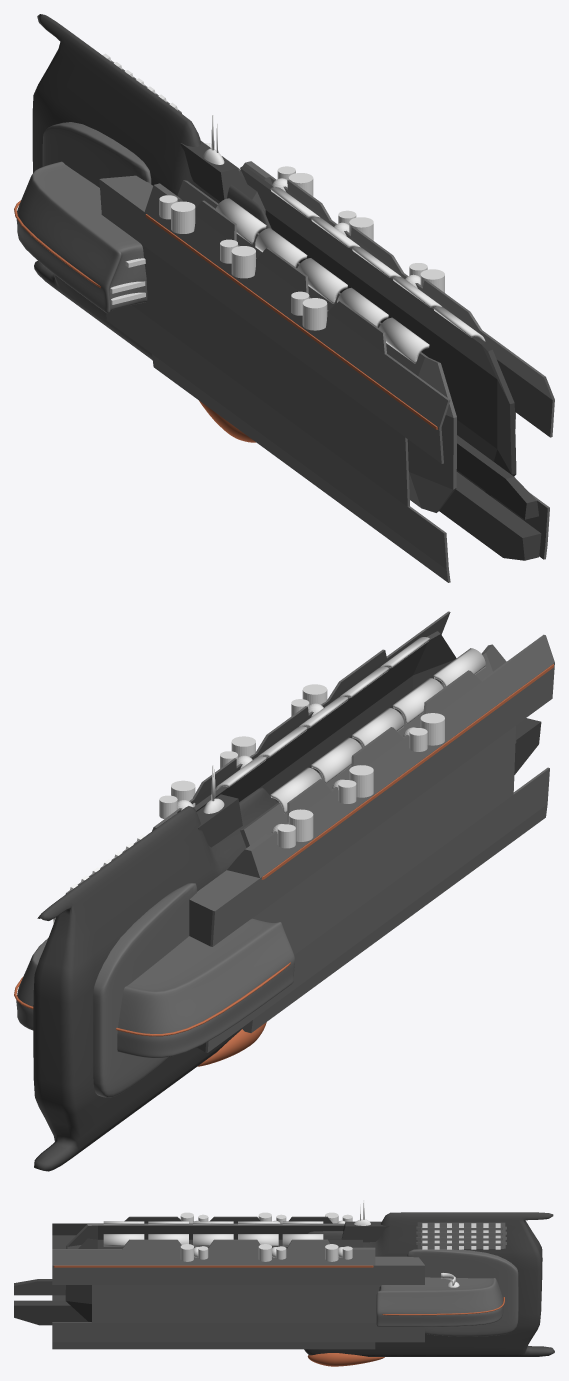
File: Cruiser_Mesh.fbx
The picture shows the model from 3 angles, top to bottom: view 1: azimuth 30°, elevation 25°; view 2: azimuth 150°, elevation 25°; view 3: azimuth 270°, elevation 25°; orthographic projection. The views are drawn at different scales.
Visible parts, largest first — view 1: RightPlate, Body1, LeftInnerPlate, EngineBracing, CentralSpire, LeftPlate, RightInnerPlate, RightHandles, RightCheek, LeftHandles, CaptainBridge, RightPlateDash (+6 smaller); view 2: RightPlate, Body1, EngineBracing, RightCheek, LeftInnerPlate, RightHandles, LeftPlate, LeftHandles, RightInnerPlate, CaptainBridge, RightPlateDash, RightBarrel3 (+8 smaller); view 3: LeftPlate, Body1, EngineBracing, LeftCheek, RightInnerPlate, GlowPanel, CentralSpire, LeftHandles, RightPlate, LeftInnerPlate, LeftPlateDash, RightHandles (+6 smaller).
Part boxes in pixels (x1,y1,x2,y2): RightPlate: (99,175,450,582); Body1: (32,14,271,359); LeftInnerPlate: (240,165,516,498); EngineBracing: (16,161,147,313); CentralSpire: (439,435,541,560); LeftPlate: (238,161,554,559); RightInnerPlate: (177,180,456,512); RightHandles: (216,198,429,363); RightCheek: (42,122,151,187); LeftHandles: (270,187,485,341); CaptainBridge: (180,141,241,201); RightPlateDash: (145,214,438,429); RightPlate: (189,634,554,1052); Body1: (33,787,277,1171); EngineBracing: (16,918,294,1057); RightCheek: (93,883,197,1097); LeftInnerPlate: (193,631,456,811); RightHandles: (270,648,485,813); LeftPlate: (152,611,450,830); LeftHandles: (215,637,429,790); RightInnerPlate: (240,644,516,847); CaptainBridge: (197,794,242,847); RightPlateDash: (261,664,553,879); RightBarrel3: (271,809,313,848); LeftPlate: (52,1239,424,1349); Body1: (304,1212,554,1356); EngineBracing: (376,1277,503,1326); LeftCheek: (407,1249,518,1336); RightInnerPlate: (66,1223,344,1248); GlowPanel: (416,1222,506,1249); CentralSpire: (14,1279,90,1325); LeftHandles: (103,1234,323,1246); RightPlate: (52,1216,336,1300); LeftInnerPlate: (65,1238,362,1322); LeftPlateDash: (53,1265,373,1267); RightHandles: (103,1221,323,1224).
Bounding box in the file's own units: 1070 × 1593 × 4728.
